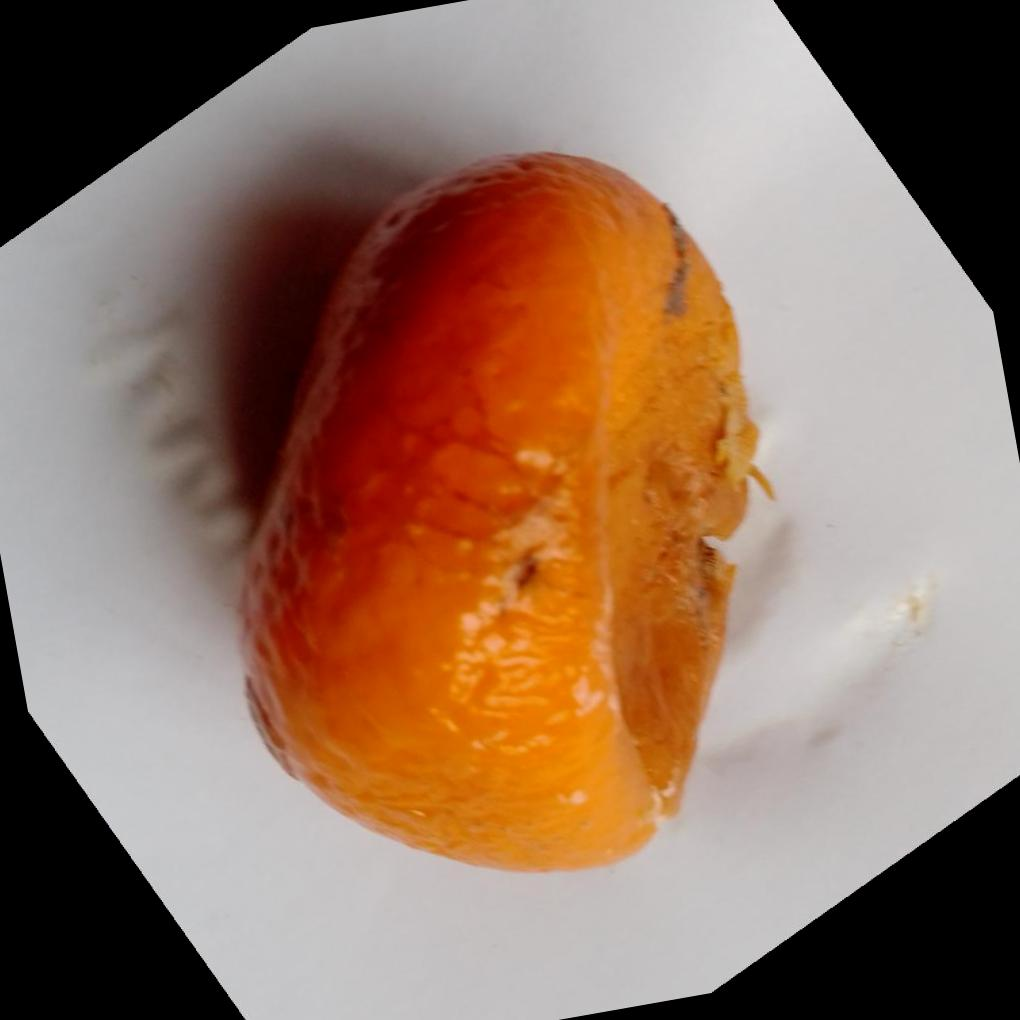FreshOrange: (236, 151, 766, 877)
